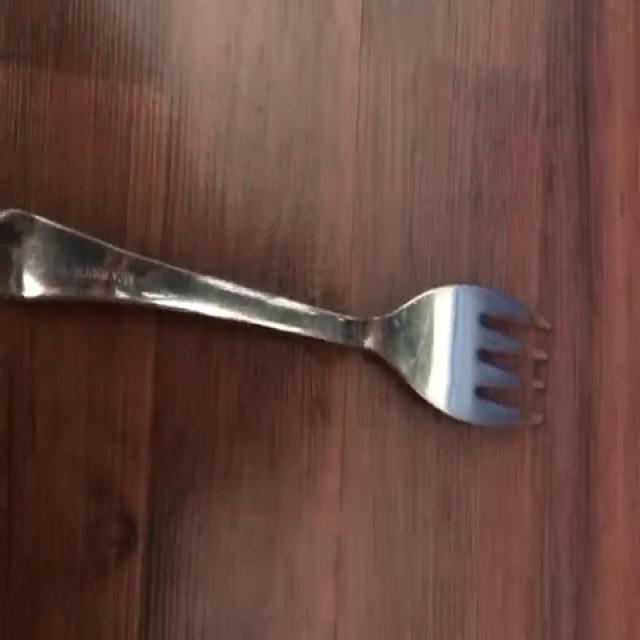spoon: (0, 209, 547, 426)
